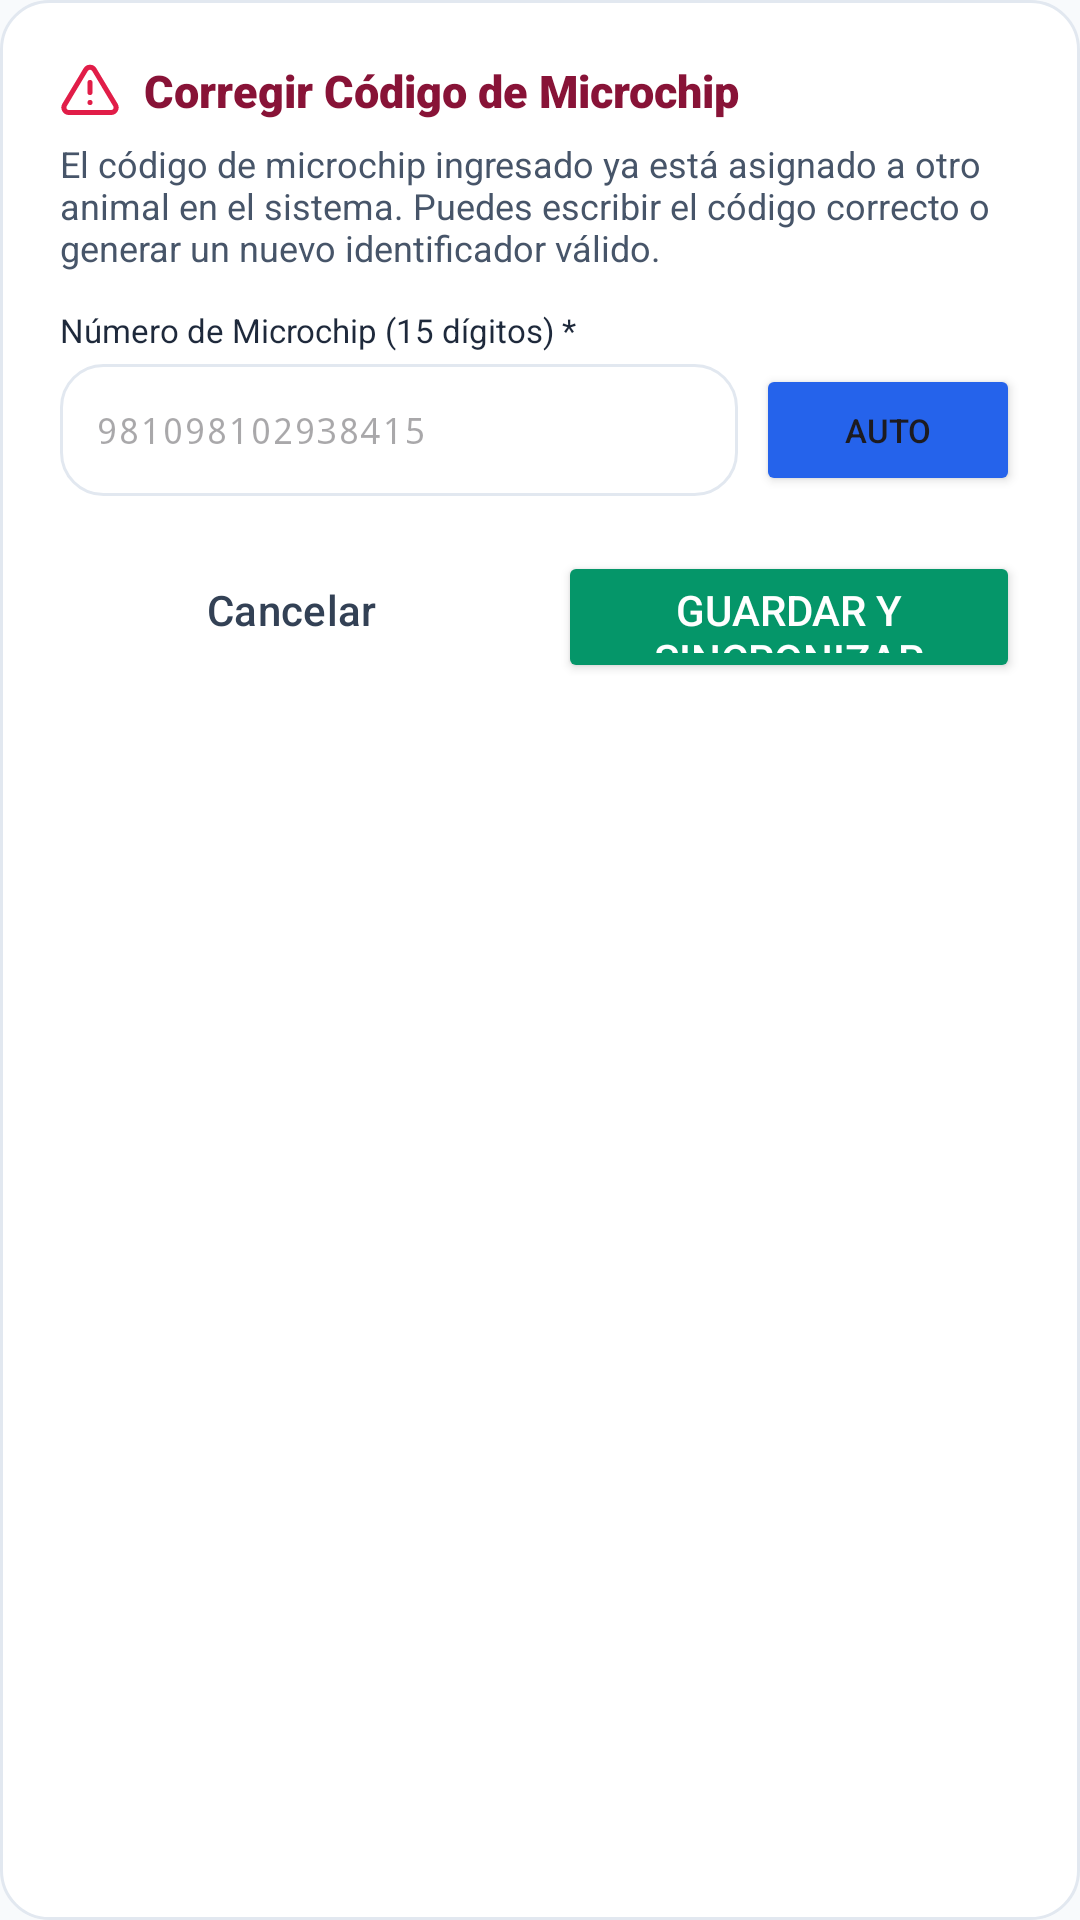

Locate icon controls on the screen. Image size 1080×1920, boxes as (x1, y1, x2, y2).
alert triangle: (61, 64, 119, 115)
